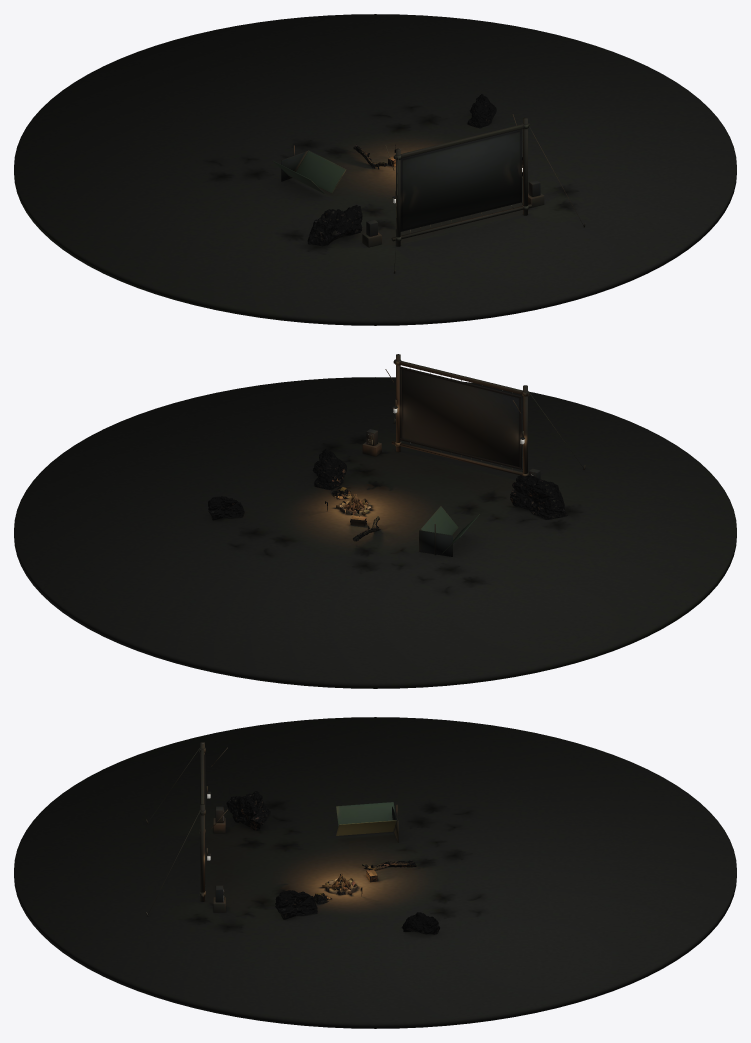
Rendered from jungle.glb.
The picture shows the model from 3 angles, top to bottom: view 1: azimuth 30°, elevation 25°; view 2: azimuth 150°, elevation 25°; view 3: azimuth 270°, elevation 25°; orthographic projection.
Parts seen in each view (by area): view 1: jungle_ground, jungle_props; view 2: jungle_ground, jungle_props; view 3: jungle_ground, jungle_props.
Boxes of the visible parts, x1,y1,x2,y2 form: jungle_ground: (14, 14, 736, 325); jungle_props: (307, 94, 522, 246); jungle_ground: (14, 354, 736, 688); jungle_props: (208, 449, 567, 541); jungle_ground: (14, 717, 736, 1028); jungle_props: (226, 791, 440, 934).
Bounding box in the file's own units: 32 × 4.99 × 32.
Materials: 2 (2 with a texture image).
